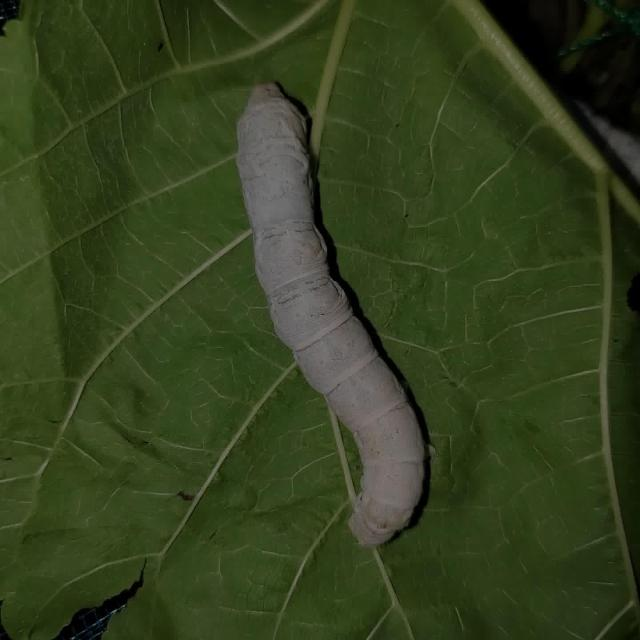Healthy: (227, 71, 436, 553)
